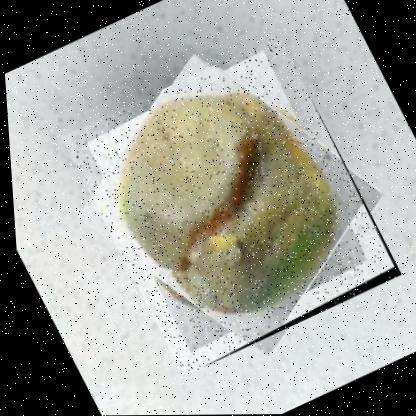orange_rotten: (52, 34, 403, 378)
